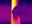Hotspot: (11, 0, 16, 12)
